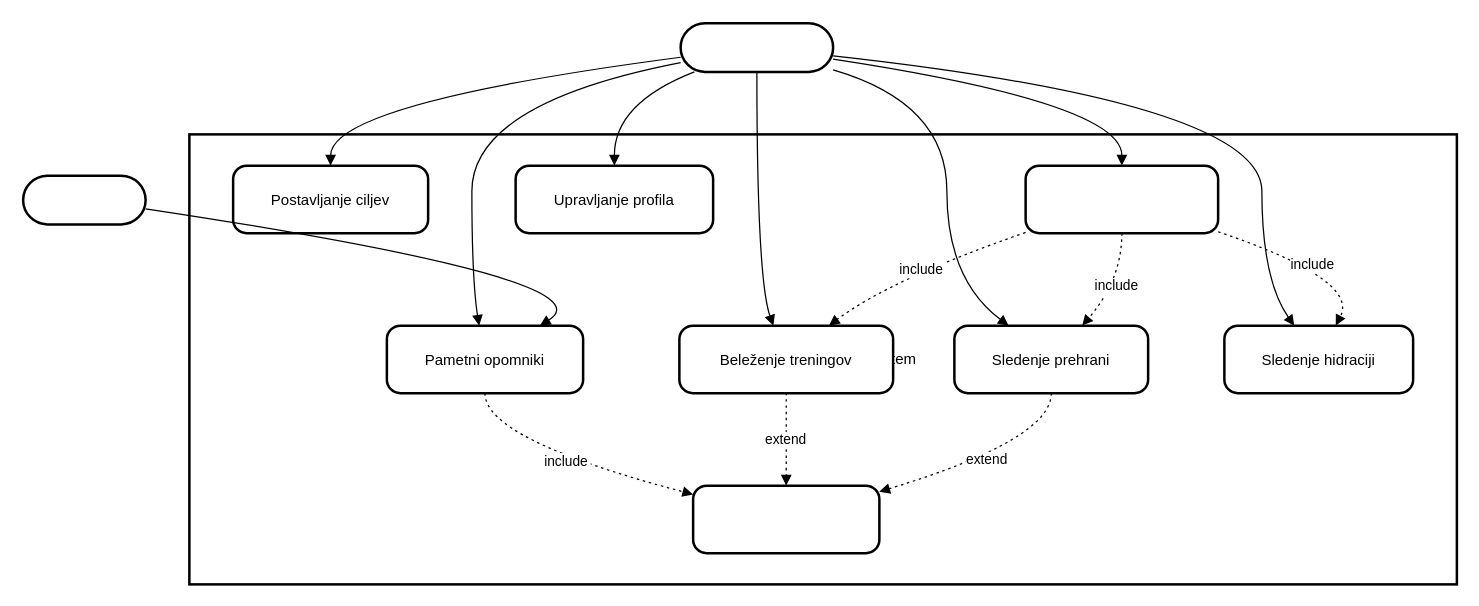
The diagram is 1479 pixels wide and 606 high, and some of its shapes have lost their labels. Each missing label, with the centre of its shape:
Analiza napredka: (x=1121, y=199)
Offline delovanje: (x=785, y=519)
⚙️ Sistem: (x=83, y=199)
👤 Uporabnik: (x=756, y=46)
